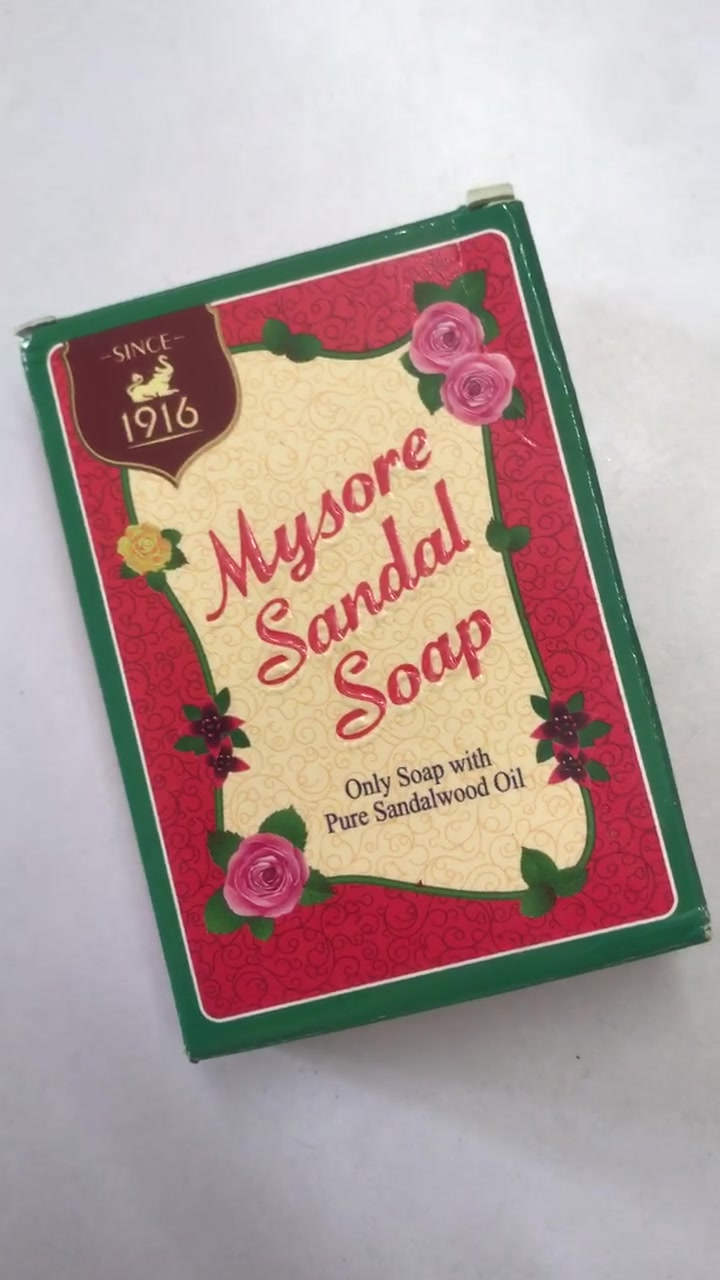mysore sandal soap: (16, 205, 709, 1060)
